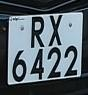2: (44, 46, 63, 80), (61, 45, 79, 76)
4: (29, 46, 46, 82)
6: (12, 49, 30, 84)
R: (27, 17, 48, 50)
X: (46, 13, 64, 48)
